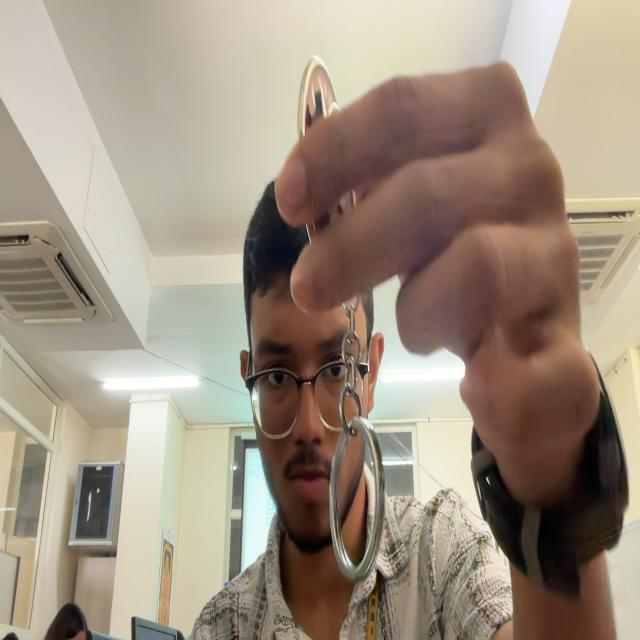dangerous: (329, 299, 385, 581), (297, 56, 338, 138)
